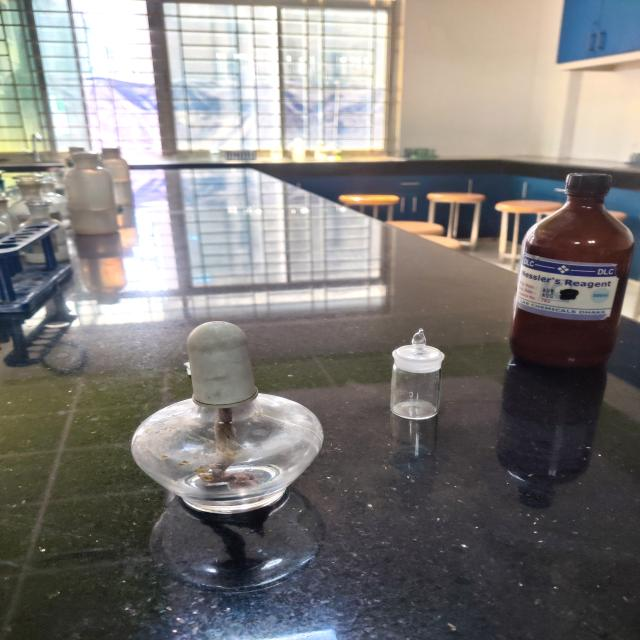Nessler_Reagent_Bottle: (495, 160, 640, 395)
Spirit_Lamp: (115, 307, 344, 544)
Weighing_Bottle: (371, 315, 467, 432)
